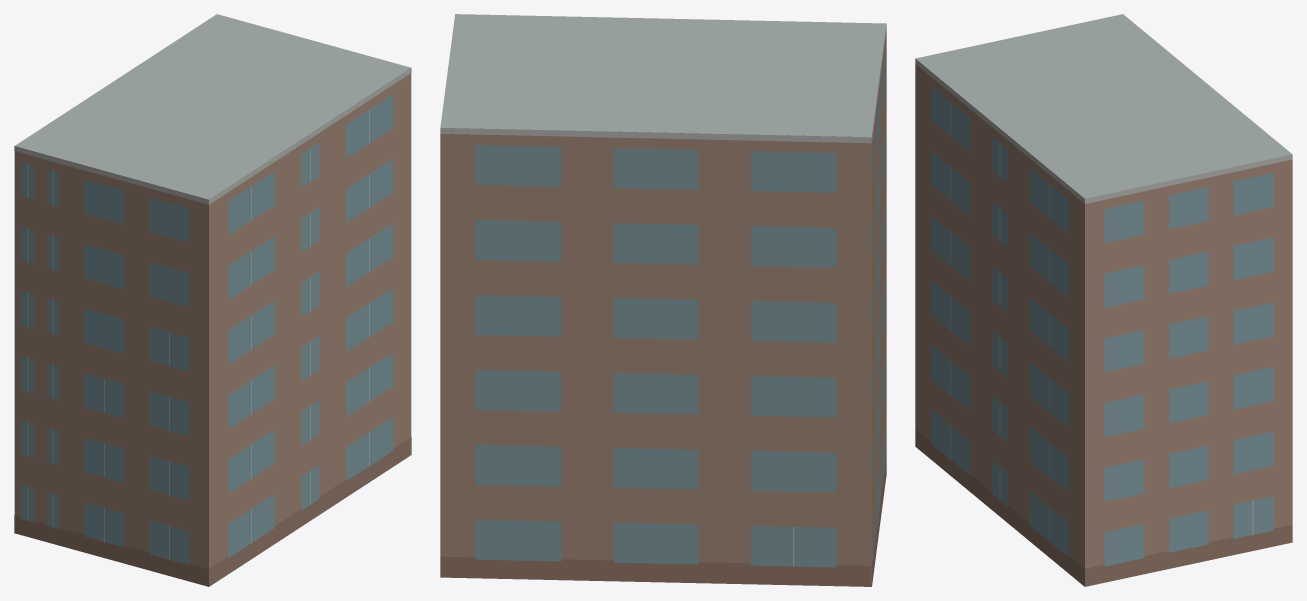
The model's file is survey-upis-32747019.glb.
The picture shows the model from 3 angles, left to right: view 1: azimuth 30°, elevation 25°; view 2: azimuth 150°, elevation 25°; view 3: azimuth 270°, elevation 25°; orthographic projection. The views are drawn at different scales.
Parts seen in each view (by area): view 1: survey-upis-32747019.tmp; view 2: survey-upis-32747019.tmp; view 3: survey-upis-32747019.tmp.
Boxes of the visible parts, x1,y1,x2,y2 form: survey-upis-32747019.tmp: [14, 14, 411, 586]; survey-upis-32747019.tmp: [440, 14, 886, 586]; survey-upis-32747019.tmp: [915, 14, 1292, 586].
Size of the model in its own units: 18.7 by 18.3 by 16.13.
